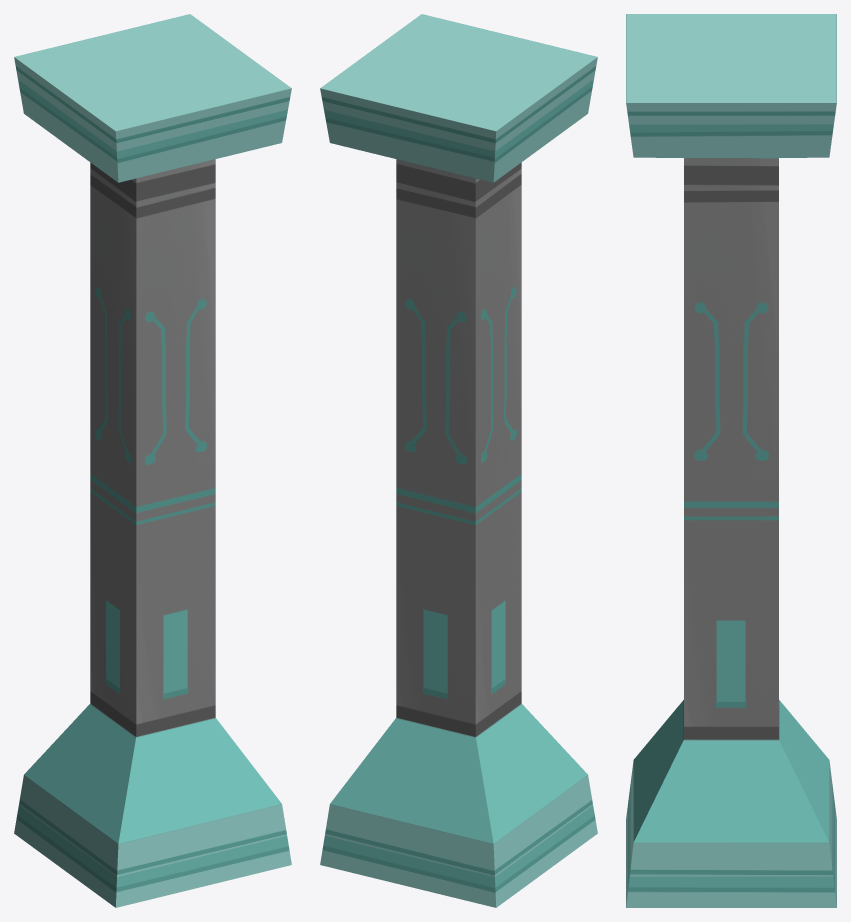
Rendered from hasira.fbx.
3 renders of one model, left to right at view 1: azimuth 30°, elevation 25°; view 2: azimuth 150°, elevation 25°; view 3: azimuth 270°, elevation 25°, orthographic. The views are drawn at different scales.
Visible parts, largest first — view 1: pCube1; view 2: pCube1; view 3: pCube1.
Boxes of the visible parts, left/top/right/bottom form: pCube1: left=14, top=14, right=291, bottom=907; pCube1: left=320, top=14, right=597, bottom=907; pCube1: left=626, top=14, right=836, bottom=907.
Size of the model in its own units: 19.34 by 81.48 by 19.34.
Materials: 1 (1 with a texture image).
